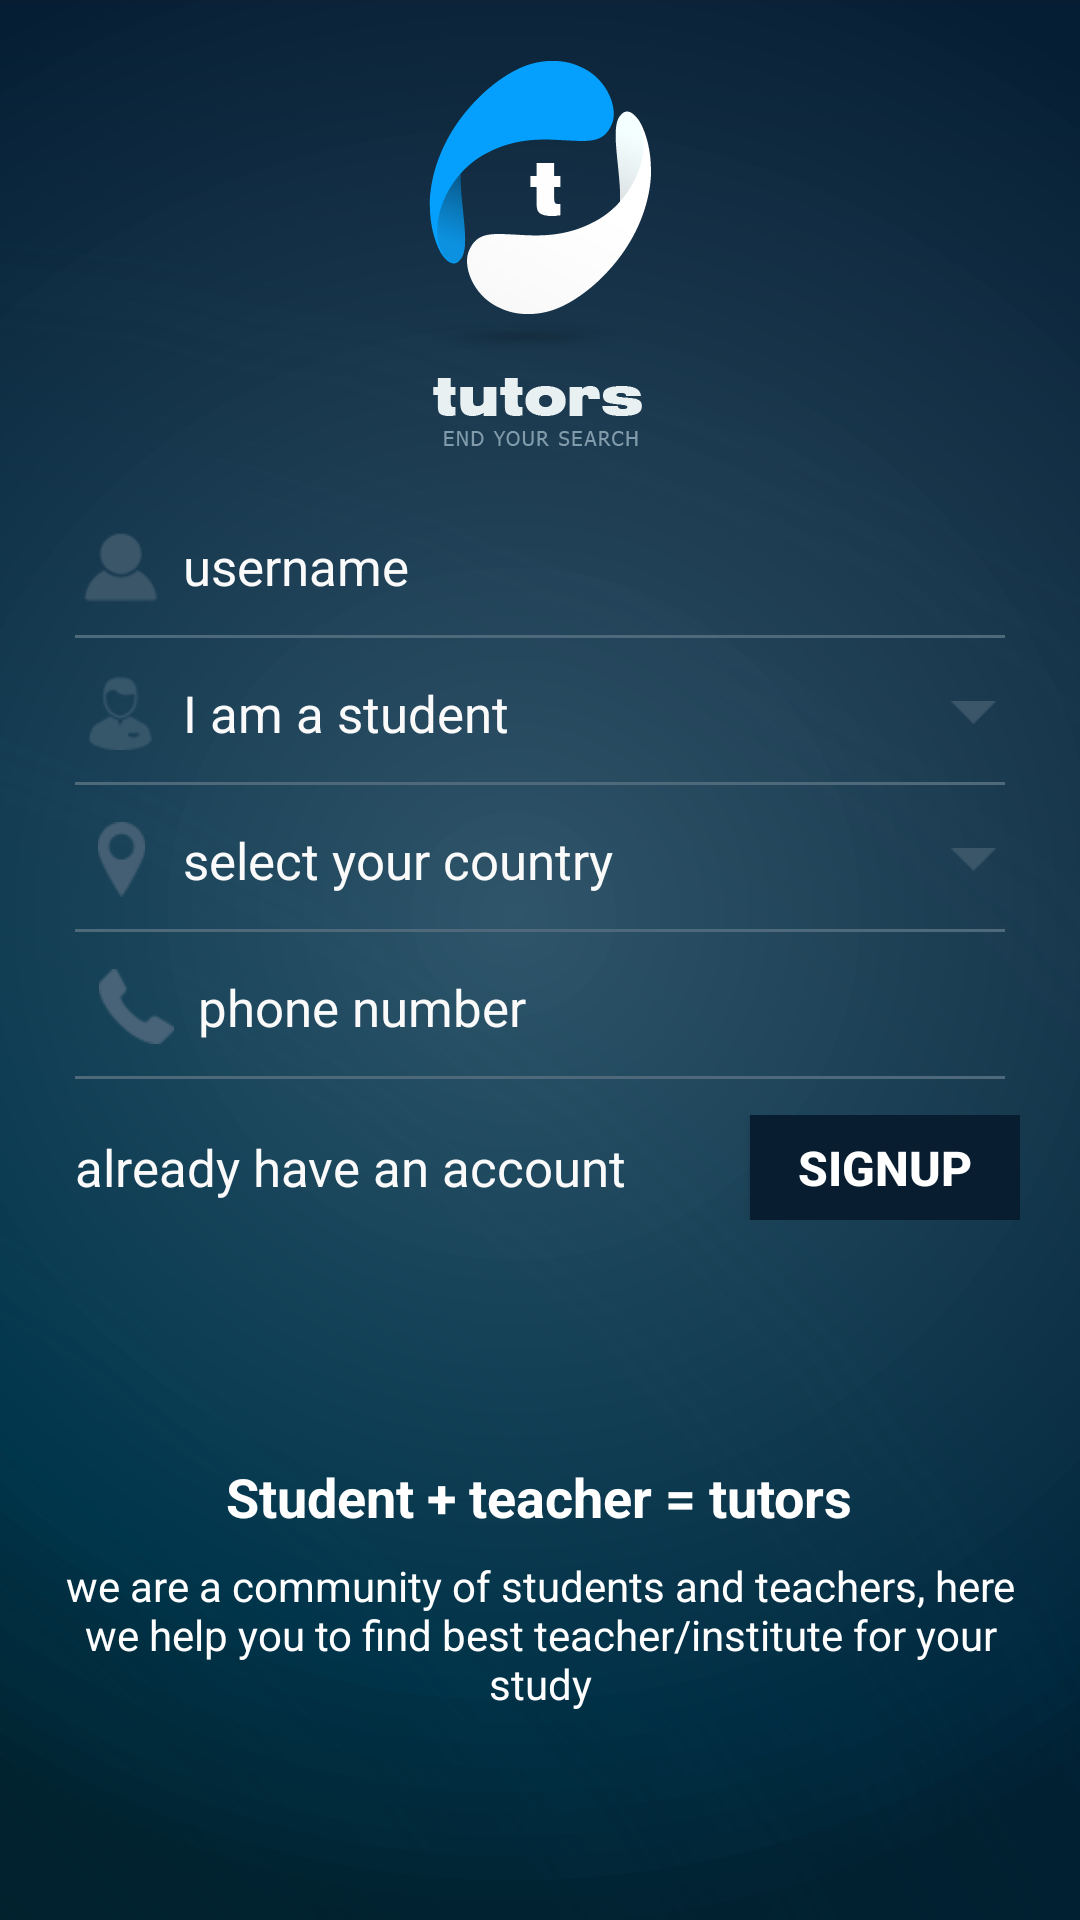

Icons on this 1080×1920 Android screen, each with the point to tap as (x,y):
dropdown list arrow: (973,711), (973,858)
